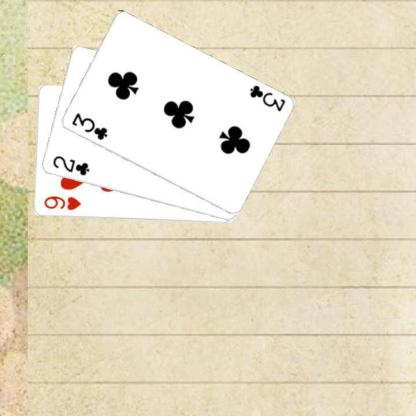2C: (50, 153, 90, 177)
3C: (68, 110, 108, 141), (246, 82, 286, 113)
9H: (41, 194, 82, 212)
